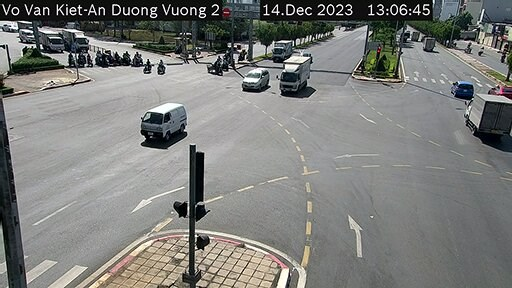car: (138, 98, 187, 145), (242, 65, 267, 93), (452, 79, 477, 100)
truck: (470, 93, 505, 142), (281, 56, 313, 92), (38, 32, 71, 57), (60, 29, 90, 49), (275, 37, 291, 55), (420, 39, 436, 54)
